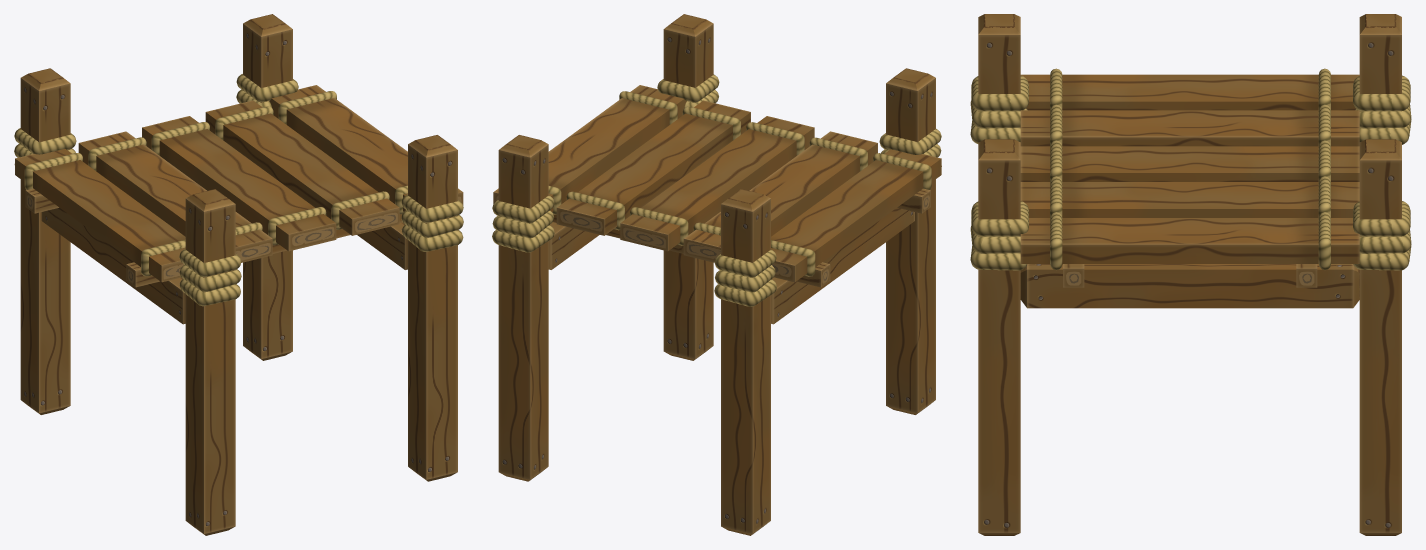
The model's file is WoodenPlatform.FBX.
The picture shows the model from 3 angles, left to right: view 1: azimuth 30°, elevation 25°; view 2: azimuth 150°, elevation 25°; view 3: azimuth 270°, elevation 25°; orthographic projection. The views are drawn at different scales.
Parts seen in each view (by area): view 1: WoodPlatofrmTop, WoodPlatformVerticalPole01, WoodPlatformVerticalPole02, WoodPlatformVerticalPole, WoodPlatformVerticalPole03, WoodPlatformHorizontalPole, WoodPlatformropes02, WoodPlatformropes01, WoodPlatformHorizontalPole01, WoodPlatformropes03, WoodPlatformropes; view 2: WoodPlatofrmTop, WoodPlatformVerticalPole03, WoodPlatformVerticalPole, WoodPlatformVerticalPole01, WoodPlatformVerticalPole02, WoodPlatformHorizontalPole, WoodPlatformropes03, WoodPlatformropes, WoodPlatformHorizontalPole01, WoodPlatformropes02, WoodPlatformropes01; view 3: WoodPlatofrmTop, WoodPlatformVerticalPole03, WoodPlatformVerticalPole02, WoodPlatformHorizontalPole01, WoodPlatformVerticalPole, WoodPlatformVerticalPole01, WoodPlatformropes03, WoodPlatformropes02, WoodPlatformropes, WoodPlatformropes01.
Part boxes in pixels (box(x1,y1,x2,y2)): WoodPlatofrmTop: box(15, 85, 463, 287); WoodPlatformVerticalPole01: box(185, 189, 235, 535); WoodPlatformVerticalPole02: box(408, 135, 457, 481); WoodPlatformVerticalPole: box(20, 68, 70, 414); WoodPlatformVerticalPole03: box(243, 14, 292, 360); WoodPlatformHorizontalPole: box(41, 207, 185, 324); WoodPlatformropes02: box(401, 194, 463, 251); WoodPlatformropes01: box(179, 249, 241, 306); WoodPlatformHorizontalPole01: box(357, 222, 407, 269); WoodPlatformropes03: box(236, 74, 298, 107); WoodPlatformropes: box(14, 128, 76, 164); WoodPlatofrmTop: box(493, 85, 941, 287); WoodPlatformVerticalPole03: box(498, 135, 548, 481); WoodPlatformVerticalPole: box(721, 189, 770, 535); WoodPlatformVerticalPole01: box(886, 68, 935, 414); WoodPlatformVerticalPole02: box(663, 14, 713, 360); WoodPlatformHorizontalPole: box(771, 207, 914, 324); WoodPlatformropes03: box(492, 195, 554, 252); WoodPlatformropes: box(714, 249, 776, 306); WoodPlatformHorizontalPole01: box(548, 222, 599, 269); WoodPlatformropes02: box(657, 74, 719, 107); WoodPlatformropes01: box(879, 129, 941, 166); WoodPlatofrmTop: box(1020, 68, 1359, 287); WoodPlatformVerticalPole03: box(1359, 139, 1401, 535); WoodPlatformVerticalPole02: box(978, 139, 1020, 535); WoodPlatformHorizontalPole01: box(1020, 264, 1359, 308); WoodPlatformVerticalPole: box(1359, 14, 1401, 111); WoodPlatformVerticalPole01: box(978, 14, 1020, 111); WoodPlatformropes03: box(1353, 201, 1411, 270); WoodPlatformropes02: box(970, 201, 1028, 270); WoodPlatformropes: box(1353, 75, 1411, 144); WoodPlatformropes01: box(970, 75, 1028, 143).
Bounding box in the file's own units: 197 × 197 × 205.
